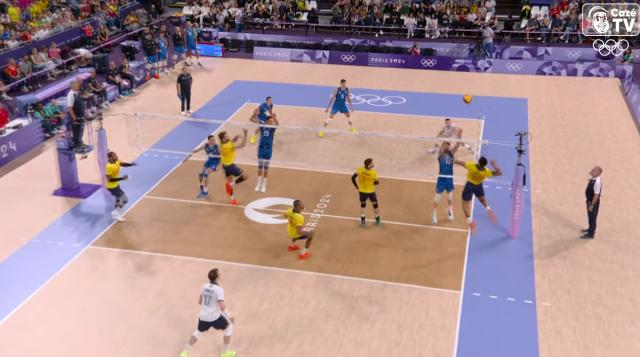Levantador: (356, 158, 380, 226), (258, 97, 274, 121)
Libero: (196, 267, 234, 355), (438, 118, 458, 143)
bola: (462, 94, 473, 104)
